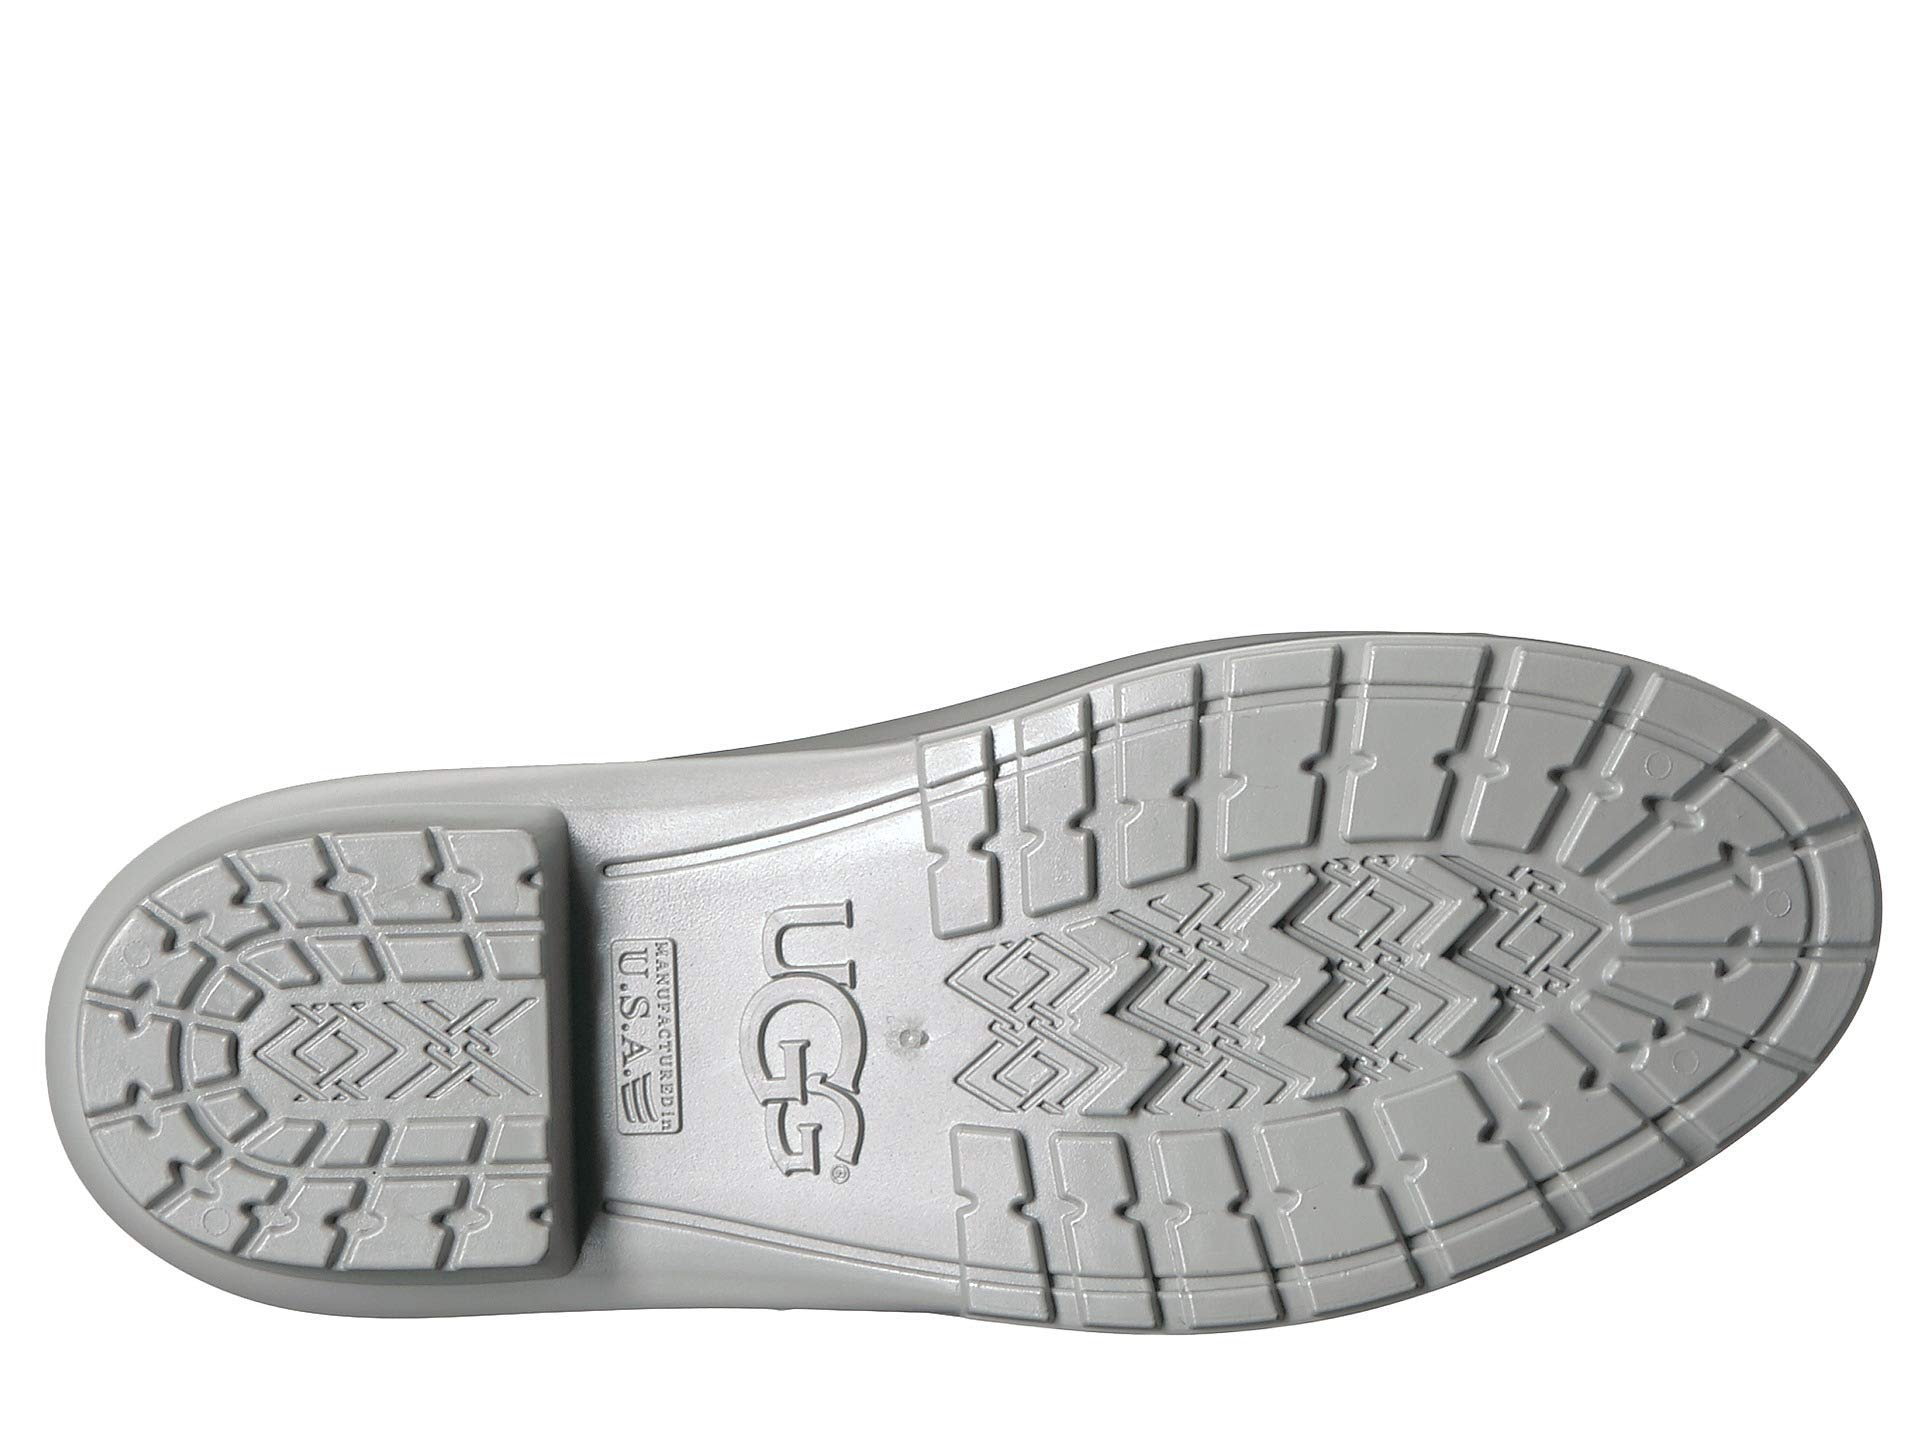bowtie: (962, 1107, 1503, 1302), (1129, 658, 1621, 862), (150, 846, 537, 983)
chevron: (924, 839, 1569, 1128), (257, 1007, 540, 1107)
quad: (150, 846, 537, 983)
